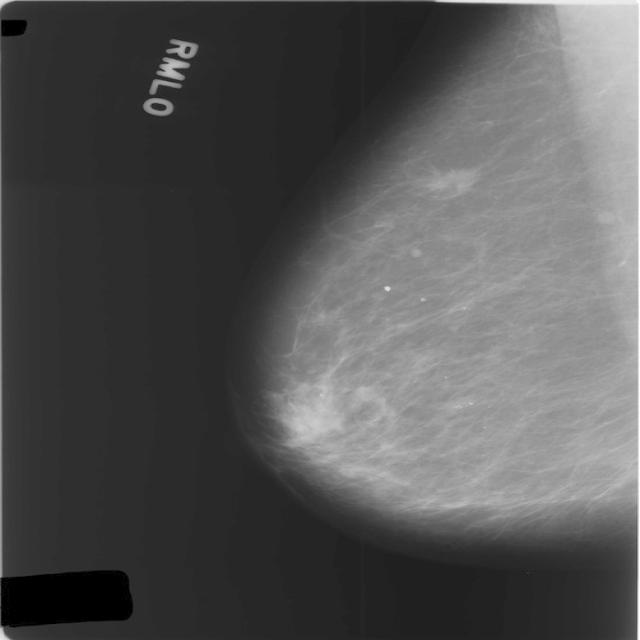tumour: (420, 166, 480, 198)
